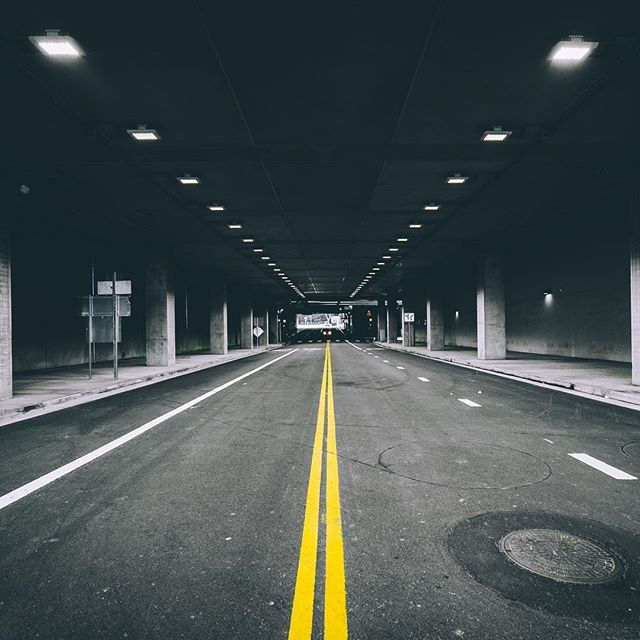collumn: (134, 239, 189, 372), (466, 250, 520, 361), (205, 267, 242, 358), (418, 268, 447, 348)
street: (5, 342, 640, 638)
